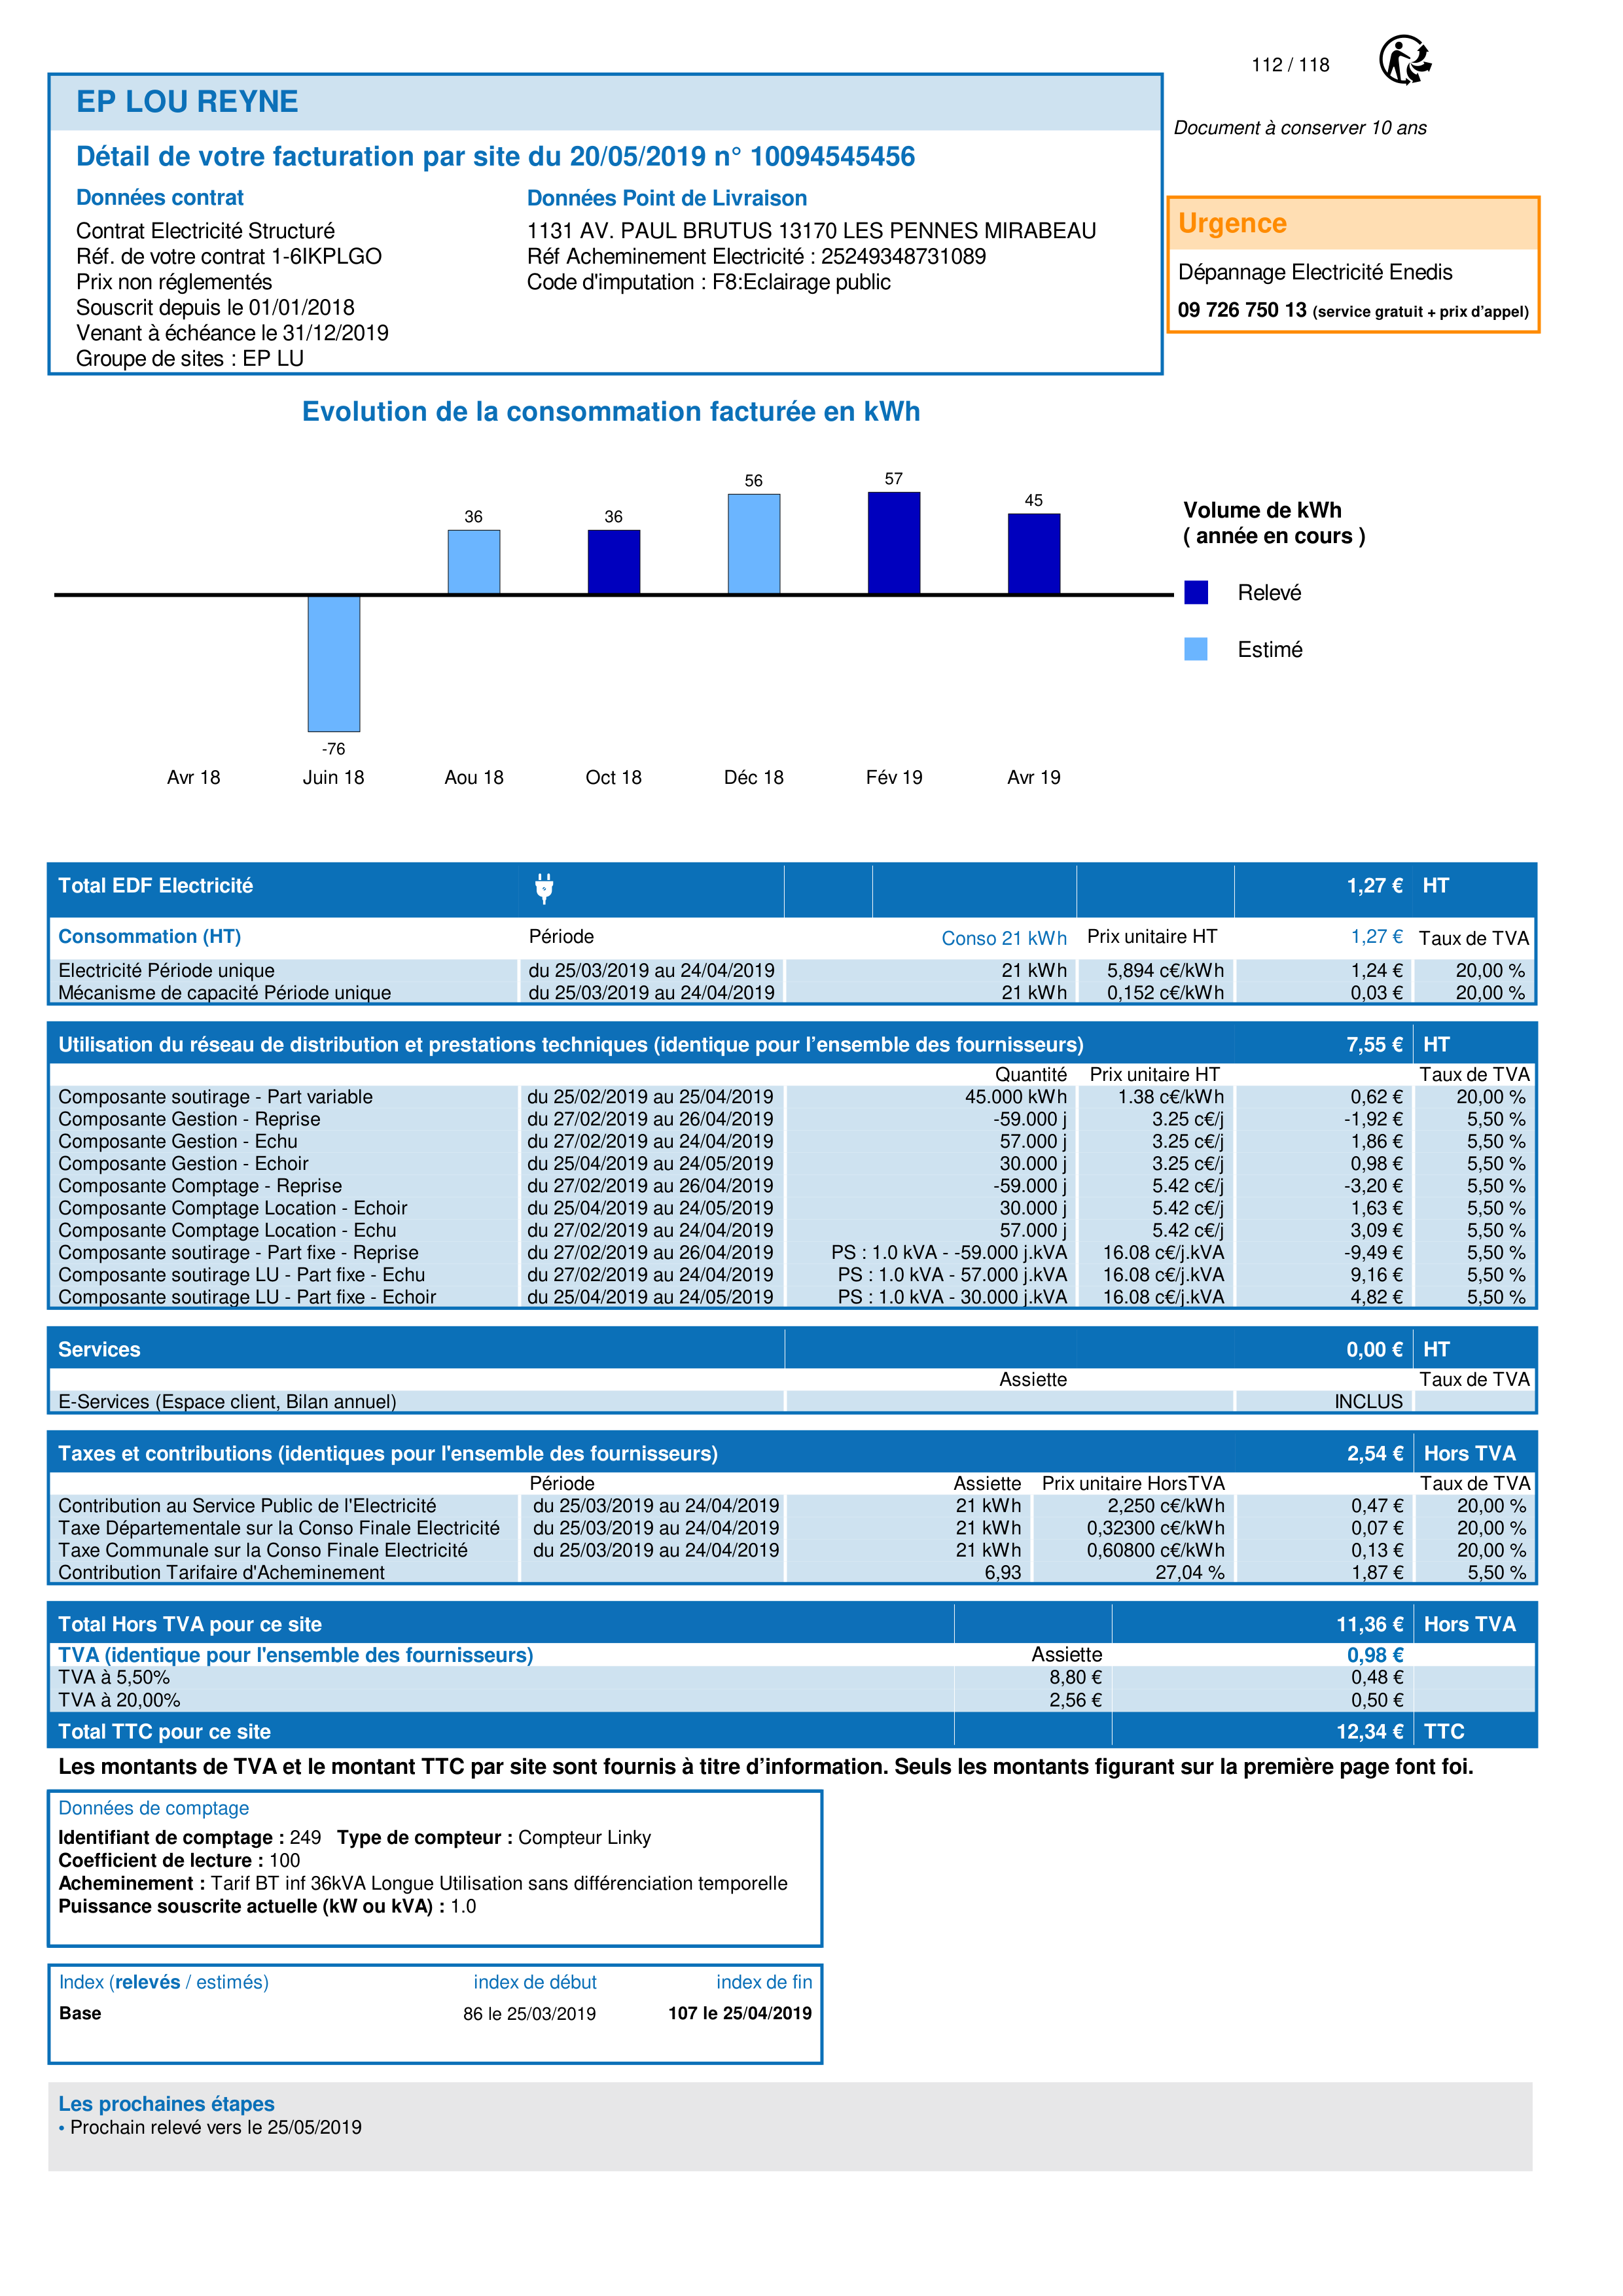area: (49, 1964, 824, 2068)
type_indicator: (47, 1966, 283, 1998)
